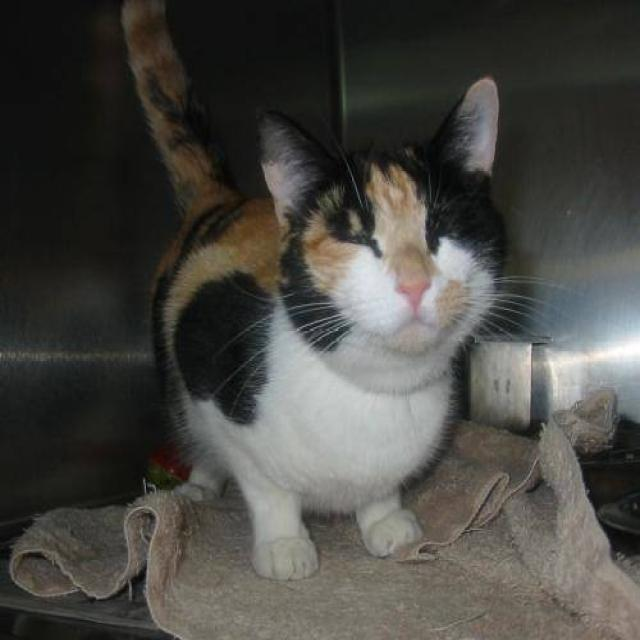cat: (116, 0, 559, 581)
